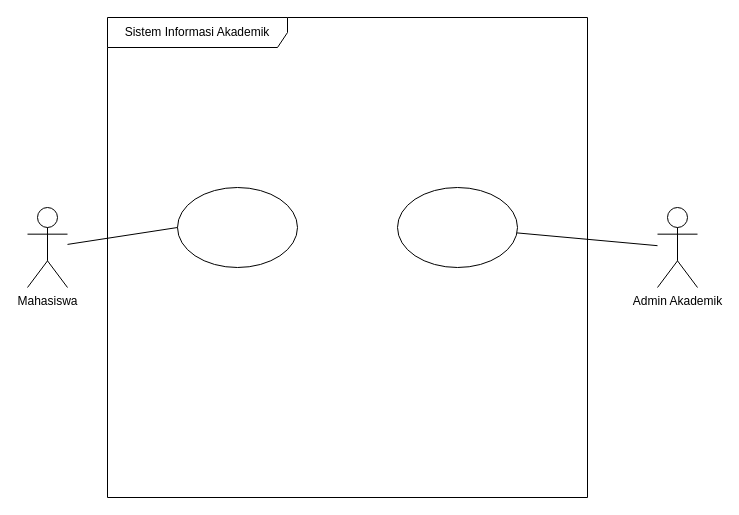
This 739x515 diagram has some shape labels left out. The centre of each missing label's shape, as x and y in pixels:
Jadwal Kuliah: the point at 237,227
Kelola Jadwal Kuliah: the point at 457,227
